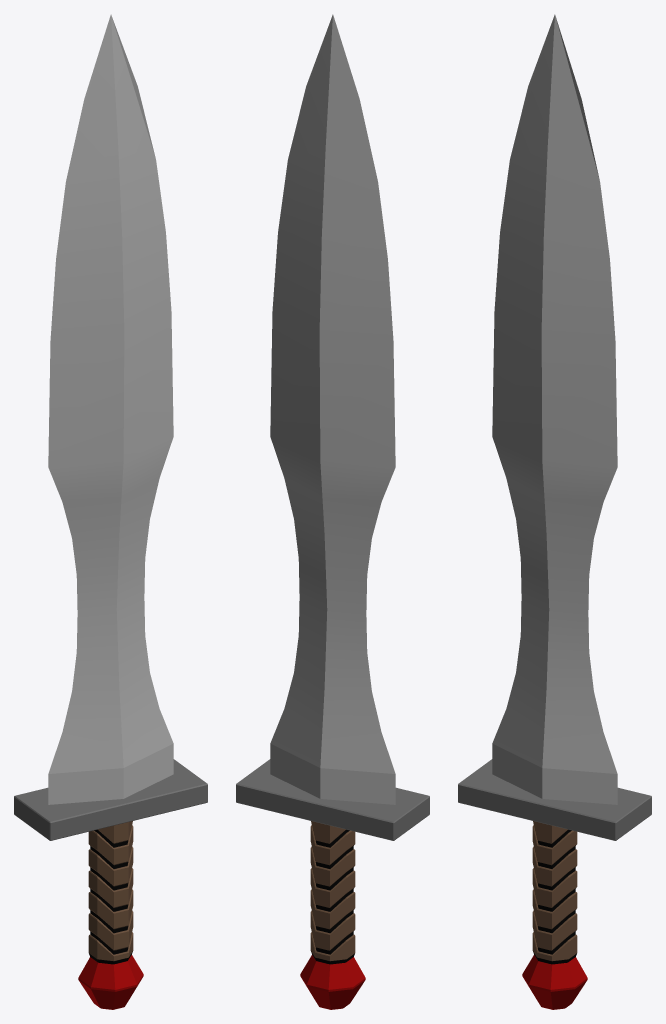
Rendered from Sword_2.fbx.
3 renders of one model, left to right at view 1: azimuth 30°, elevation 25°; view 2: azimuth 150°, elevation 25°; view 3: azimuth 330°, elevation 25°, orthographic.
Visible parts, largest first — view 1: polySurface1, polySurface3, polySurface4; view 2: polySurface1, polySurface3, polySurface4; view 3: polySurface1, polySurface3, polySurface4.
Boxes of the visible parts, x1=… form: polySurface1: x1=48, y1=14, x2=173, y2=804; polySurface3: x1=78, y1=821, x2=143, y2=1009; polySurface4: x1=14, y1=759, x2=207, y2=840; polySurface1: x1=270, y1=14, x2=395, y2=804; polySurface3: x1=300, y1=821, x2=365, y2=1009; polySurface4: x1=236, y1=759, x2=429, y2=840; polySurface1: x1=492, y1=14, x2=617, y2=804; polySurface3: x1=522, y1=821, x2=587, y2=1009; polySurface4: x1=458, y1=759, x2=651, y2=840.
Bounding box in the file's own units: 0.91 × 5.43 × 0.3646.
